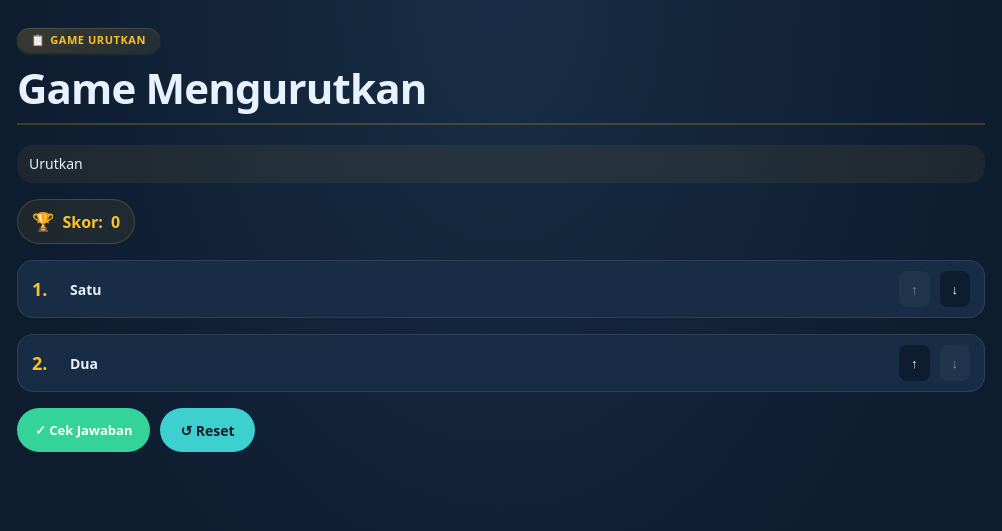
Test: PREMIUM-STYLE-P2 PATCH A — Sequencing Lock › 12. sequencing reset unlocks buttons
The width and height of the screenshot is (1002, 531).
Check answer (correct) → locked
Click the button with test id "sequence-check" at (84, 430), box [17,408,150,452]
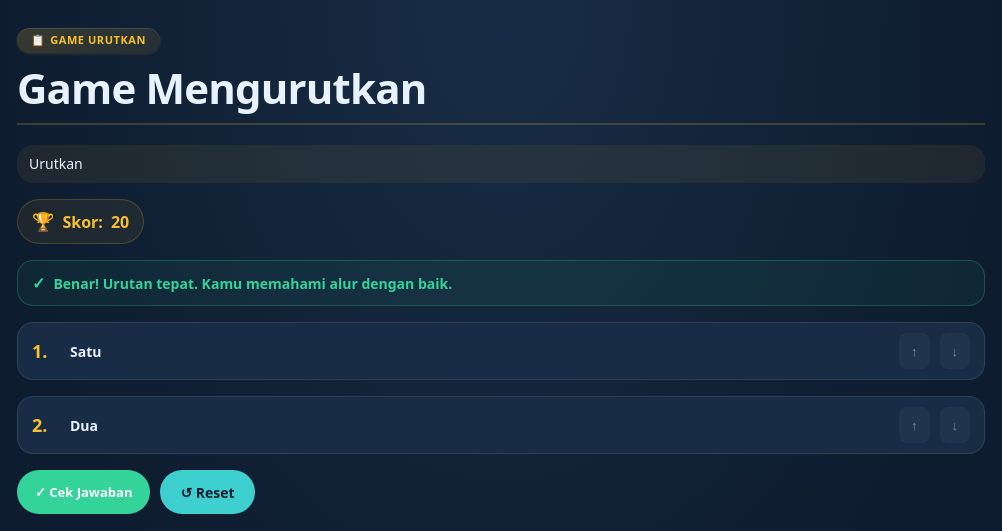
Now the button with test id "sequence-up-s2" is disabled, box [899,407,930,443]
Click the button "↺ Reset" at (208, 492), box [160,470,255,514]
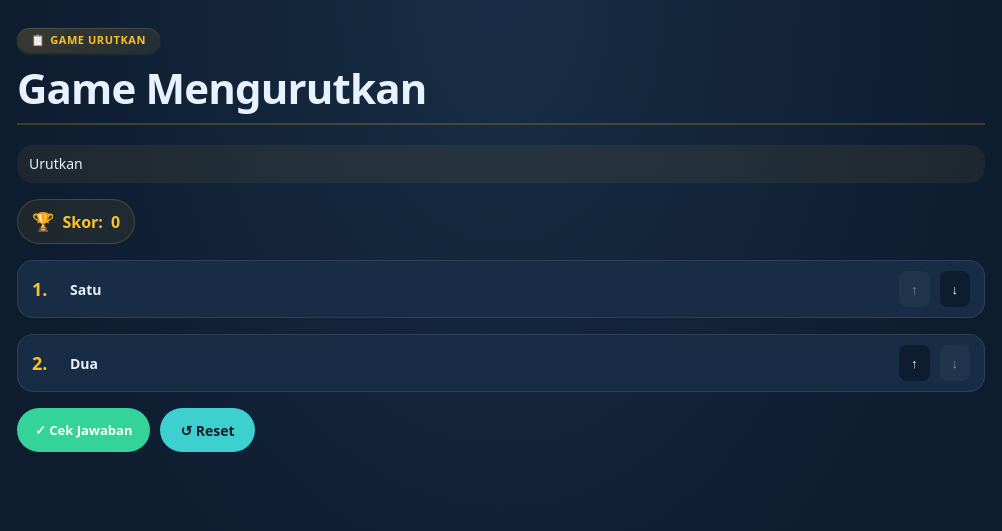
Now the button "↑" in the row of "Dua" is enabled, box [899,345,930,381]
